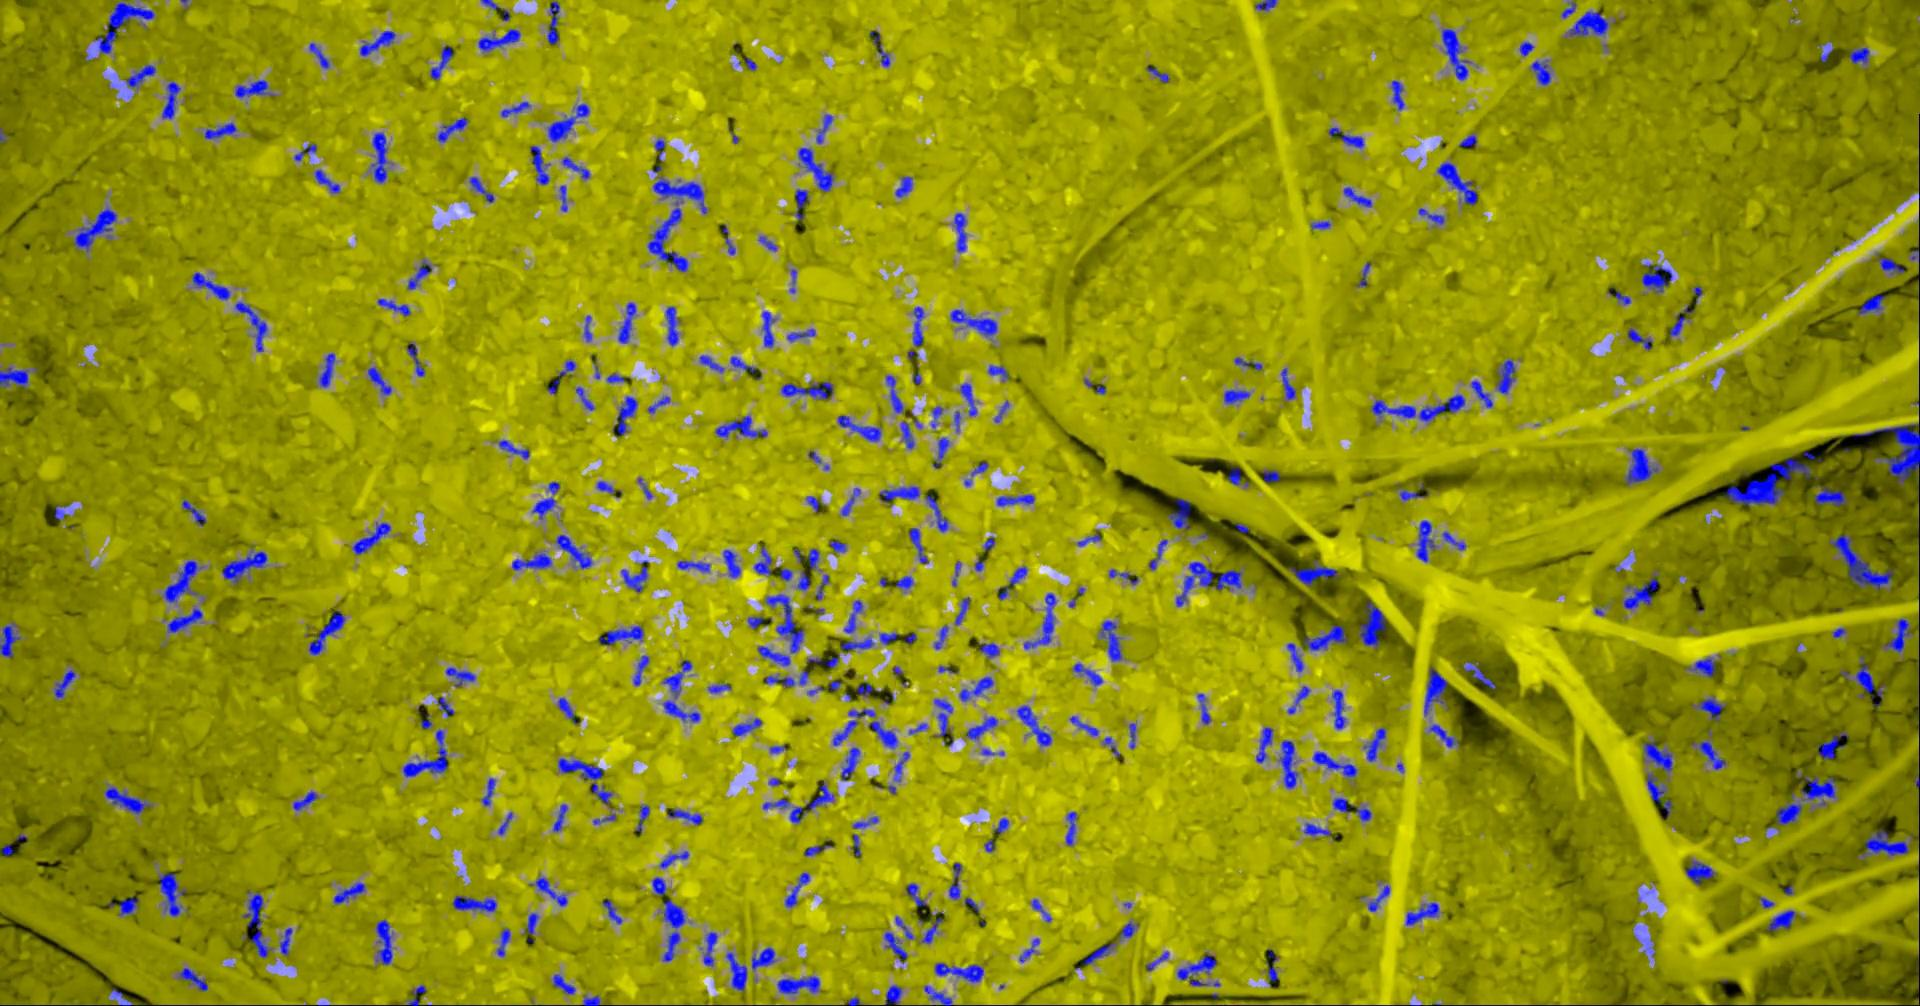ant: (95, 3, 154, 53), (1175, 561, 1241, 606), (832, 708, 897, 748), (1370, 394, 1464, 420), (557, 758, 611, 803), (764, 655, 838, 686), (764, 594, 803, 652), (403, 729, 447, 777), (72, 207, 116, 251), (243, 890, 270, 956), (1023, 592, 1055, 648), (1436, 163, 1477, 205), (789, 784, 833, 822), (309, 610, 344, 655), (234, 301, 265, 351), (547, 103, 588, 141), (797, 147, 833, 191), (221, 550, 267, 582), (1016, 705, 1051, 746), (163, 560, 197, 602), (662, 899, 684, 962), (1441, 28, 1468, 80), (1176, 951, 1217, 984), (1289, 559, 1338, 586), (949, 309, 996, 337), (1862, 828, 1909, 856), (1359, 600, 1385, 648), (1855, 655, 1884, 699), (555, 533, 590, 568), (352, 522, 390, 554), (1303, 624, 1347, 650), (1312, 751, 1356, 777), (1623, 575, 1658, 608), (1646, 774, 1672, 817), (159, 873, 185, 916), (662, 659, 691, 699), (1423, 667, 1448, 714), (1625, 448, 1657, 484), (104, 788, 149, 813), (528, 876, 568, 904), (715, 415, 766, 437), (837, 415, 880, 441), (1801, 775, 1835, 805), (190, 272, 229, 298), (997, 567, 1027, 600), (1568, 10, 1608, 36), (935, 962, 983, 982), (612, 396, 637, 434), (477, 28, 521, 50), (1098, 620, 1121, 661), (1642, 741, 1672, 771), (1816, 730, 1848, 760), (547, 359, 575, 392), (1462, 661, 1495, 688), (359, 30, 395, 56), (957, 676, 993, 701), (1641, 264, 1672, 292), (783, 873, 809, 907), (781, 381, 833, 398), (1279, 739, 1297, 788), (620, 560, 648, 591), (935, 699, 952, 746), (168, 608, 202, 633), (371, 132, 387, 182), (924, 495, 947, 531), (725, 951, 745, 991), (1416, 520, 1435, 561), (1669, 304, 1693, 337), (1884, 619, 1909, 652), (598, 626, 643, 644), (375, 920, 392, 964), (437, 117, 467, 142), (663, 700, 698, 721), (883, 931, 907, 963), (1404, 902, 1437, 925), (530, 145, 549, 184), (1698, 741, 1724, 768), (777, 976, 819, 993), (1685, 860, 1714, 885), (430, 44, 452, 79), (1364, 727, 1385, 761), (869, 30, 889, 66), (617, 302, 635, 343), (510, 553, 551, 570), (126, 64, 155, 88), (178, 967, 207, 991), (1328, 127, 1363, 147), (408, 259, 430, 290), (966, 716, 997, 739), (1167, 497, 1189, 528), (333, 882, 364, 903), (1082, 942, 1114, 964), (908, 527, 927, 563), (452, 895, 497, 911), (1495, 359, 1515, 392), (1429, 724, 1458, 747), (161, 81, 179, 118), (885, 375, 903, 412), (1813, 486, 1848, 506), (0, 622, 19, 657), (757, 645, 789, 666), (367, 367, 391, 394), (1697, 699, 1724, 721), (1255, 727, 1272, 762), (1073, 663, 1102, 685), (843, 600, 862, 633), (879, 486, 919, 502), (469, 177, 493, 202), (234, 79, 268, 97), (498, 439, 530, 459), (1876, 253, 1903, 274), (406, 343, 424, 376), (959, 382, 977, 415), (841, 747, 858, 780), (667, 808, 702, 824), (314, 169, 339, 192), (1148, 539, 1167, 569), (444, 667, 475, 686), (1470, 380, 1492, 406), (1288, 686, 1309, 713), (1775, 803, 1802, 824), (1768, 909, 1794, 931), (561, 158, 589, 178), (1343, 185, 1371, 206), (1857, 293, 1884, 314), (0, 367, 28, 387), (1688, 657, 1716, 677), (55, 669, 75, 697), (1331, 688, 1345, 729), (923, 984, 951, 1005), (546, 0, 559, 44), (731, 716, 761, 735), (1627, 326, 1651, 349), (531, 497, 555, 520), (182, 500, 204, 525), (750, 948, 775, 970), (952, 212, 966, 251), (1368, 885, 1389, 911), (921, 917, 942, 942), (377, 298, 410, 315), (309, 42, 329, 69), (841, 486, 860, 514), (1069, 716, 1097, 735), (204, 122, 236, 138), (319, 353, 334, 387), (292, 790, 317, 810), (932, 437, 949, 467), (893, 751, 909, 781), (665, 306, 678, 345), (761, 311, 775, 347), (753, 546, 771, 574), (723, 549, 740, 577), (1018, 937, 1039, 962), (1531, 60, 1550, 85), (557, 697, 577, 723), (602, 898, 621, 923), (659, 851, 688, 868), (703, 931, 717, 965), (949, 862, 961, 899), (1280, 368, 1295, 399), (905, 883, 926, 906), (1031, 898, 1051, 921), (1286, 643, 1303, 671), (575, 386, 594, 410), (730, 356, 756, 373), (912, 306, 923, 345), (815, 114, 830, 144), (632, 655, 648, 685), (794, 188, 808, 220), (996, 494, 1034, 506), (1145, 951, 1168, 970), (552, 974, 575, 993), (698, 354, 723, 372), (1109, 569, 1137, 584), (954, 596, 969, 624), (651, 138, 664, 171), (1390, 80, 1404, 109), (500, 102, 530, 116), (1608, 286, 1630, 304), (1443, 531, 1465, 549), (552, 804, 568, 831), (804, 840, 830, 855), (1266, 949, 1277, 984), (841, 636, 872, 649), (1145, 66, 1170, 83), (900, 420, 914, 448), (481, 777, 495, 805), (635, 804, 649, 832), (497, 929, 510, 956), (1418, 208, 1444, 224), (723, 224, 735, 254), (1197, 694, 1210, 724), (118, 895, 138, 915), (295, 144, 316, 161), (676, 560, 709, 572), (895, 916, 912, 939), (1223, 389, 1250, 403), (526, 913, 538, 942), (596, 480, 620, 495), (1077, 531, 1101, 546), (497, 810, 512, 835), (408, 984, 425, 1005), (884, 984, 902, 1005), (648, 396, 669, 413), (814, 574, 828, 600), (1303, 823, 1331, 836), (1065, 810, 1076, 845), (1357, 260, 1370, 287), (787, 328, 814, 340), (1234, 357, 1261, 370), (1849, 47, 1869, 64), (895, 177, 912, 197), (437, 696, 453, 716), (852, 815, 877, 828), (987, 365, 1010, 379), (1103, 737, 1120, 756), (1119, 921, 1138, 937), (1332, 796, 1352, 812), (935, 625, 947, 649), (762, 798, 789, 809), (279, 927, 291, 954), (978, 643, 999, 657), (651, 876, 665, 895), (1399, 490, 1425, 500), (758, 236, 776, 250), (1354, 807, 1371, 821), (593, 813, 615, 824), (931, 406, 942, 427), (971, 461, 987, 476), (808, 547, 819, 568), (707, 683, 730, 694), (1561, 0, 1575, 17), (895, 575, 912, 589), (994, 817, 1008, 833), (1458, 133, 1476, 146), (559, 185, 568, 211), (1255, 0, 1276, 10), (797, 570, 809, 589), (829, 539, 844, 553), (1227, 467, 1239, 484), (856, 683, 872, 696), (606, 372, 626, 382), (879, 633, 897, 644), (1519, 41, 1533, 55), (583, 315, 590, 340), (1128, 723, 1135, 748), (747, 616, 763, 627), (1263, 470, 1279, 481), (806, 495, 818, 511), (852, 833, 860, 856), (1310, 220, 1330, 229), (583, 995, 599, 1005), (778, 568, 791, 580), (0, 843, 13, 855), (55, 506, 65, 520), (547, 481, 559, 493)
